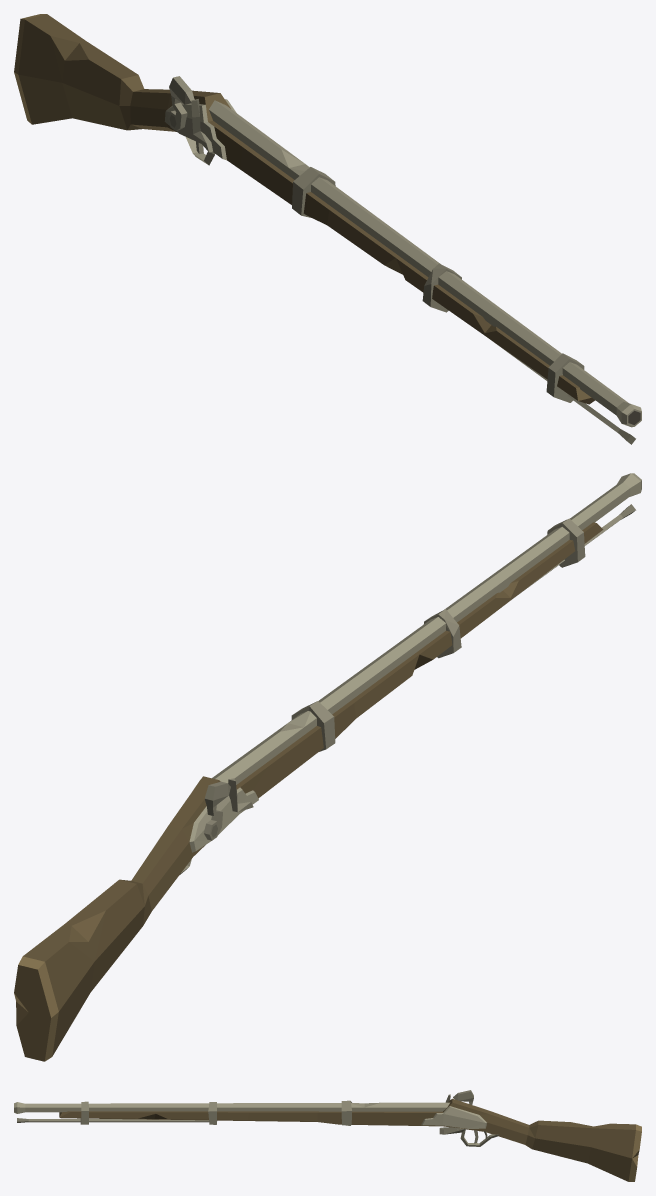
File: Rifle_1.fbx
3 views of the same model, one above another, from view 1: azimuth 30°, elevation 25°; view 2: azimuth 150°, elevation 25°; view 3: azimuth 270°, elevation 25° (orthographic). The views are drawn at different scales.
Parts seen in each view (by area): view 1: Rifle_1; view 2: Rifle_1; view 3: Rifle_1.
Boxes of the visible parts, x1,y1,x2,y2 form: Rifle_1: (14, 14, 641, 444); Rifle_1: (14, 473, 641, 1061); Rifle_1: (14, 1090, 641, 1181).
Bounding box in the file's own units: 7.01 × 24.36 × 165.
